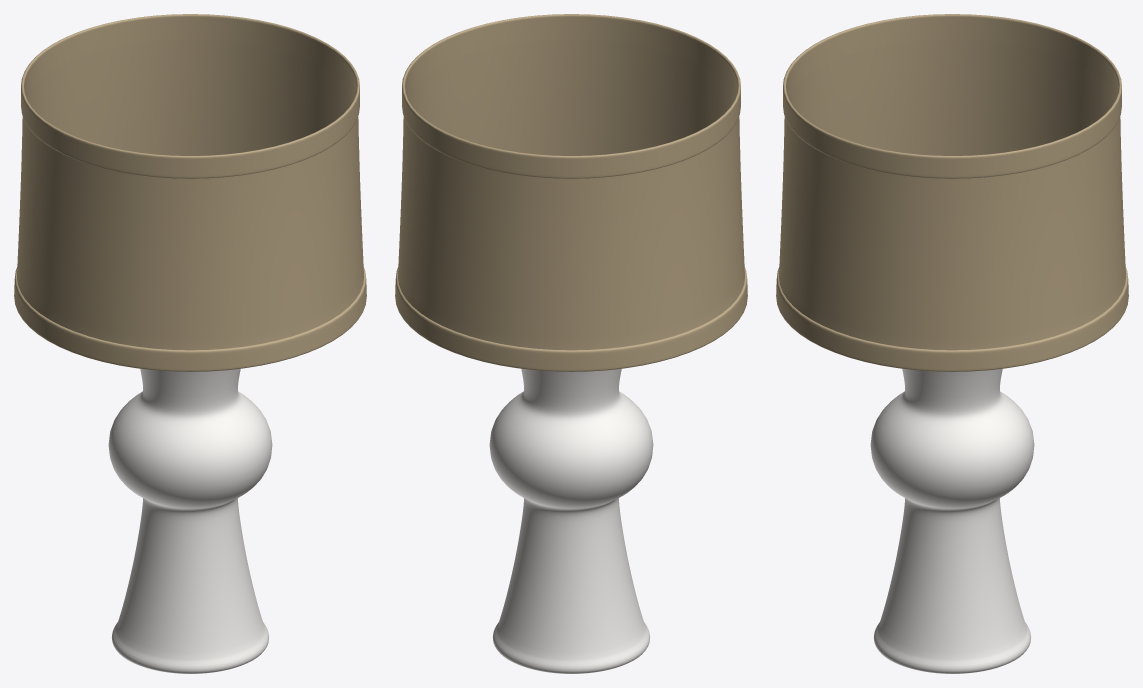
Rendered from Gordon_Lamp_FBX.FBX.
3 renders of one model, left to right at view 1: azimuth 30°, elevation 25°; view 2: azimuth 150°, elevation 25°; view 3: azimuth 270°, elevation 25°, orthographic.
Visible parts, largest first — view 1: Line46254602, Line46254601; view 2: Line46254602, Line46254601; view 3: Line46254602, Line46254601.
Boxes of the visible parts, bbox=[...] form: Line46254602: bbox=[14, 14, 366, 371]; Line46254601: bbox=[108, 368, 272, 673]; Line46254602: bbox=[395, 14, 747, 371]; Line46254601: bbox=[489, 368, 653, 673]; Line46254602: bbox=[776, 14, 1128, 371]; Line46254601: bbox=[870, 368, 1034, 673].
Size of the model in its own units: 40.8 by 71.13 by 40.8.
